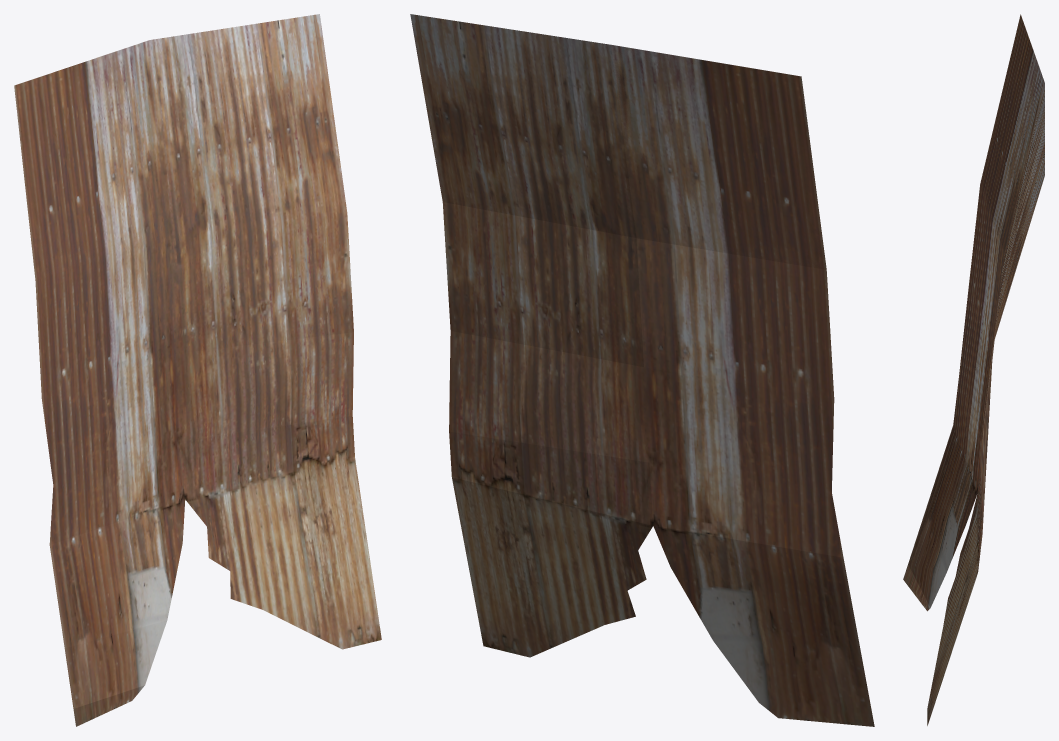
File: metalpanelA.fbx
3 renders of one model, left to right at view 1: azimuth 30°, elevation 25°; view 2: azimuth 150°, elevation 25°; view 3: azimuth 270°, elevation 25°, orthographic. The views are drawn at different scales.
Parts seen in each view (by area): view 1: Untitled; view 2: Untitled; view 3: Untitled.
Boxes of the visible parts, <box> form: Untitled: <box>14,14,381,726</box>; Untitled: <box>410,14,874,726</box>; Untitled: <box>903,14,1044,725</box>.
Bounding box in the file's own units: 33.49 × 59.89 × 13.6.
